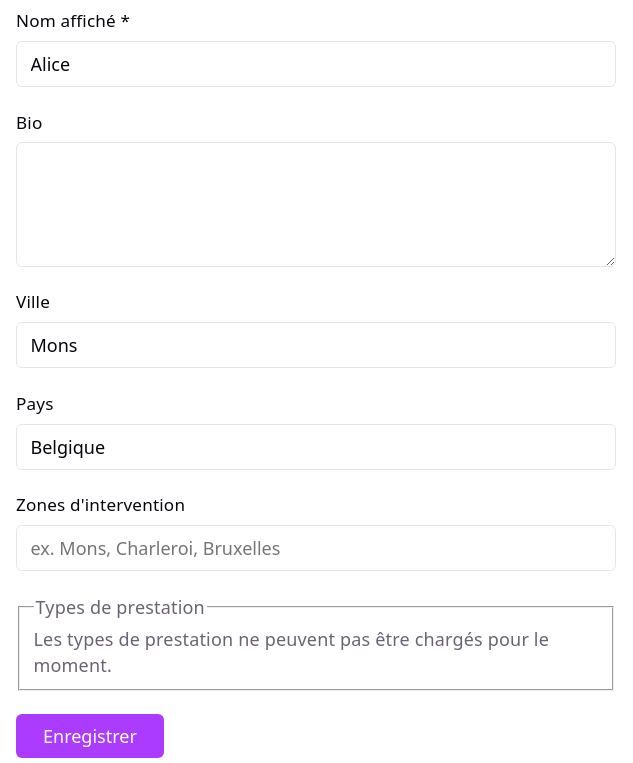
Test: MonProfilCreateur : types de prestation (#87) › garde le formulaire utilisable si les types ne peuvent pas être chargés
The width and height of the screenshot is (633, 763).
(page scrolled)
Expected: the text "Les types de prestation ne peuvent pas être chargés pour le moment." is shown, [34, 626, 598, 678]
Click the button "Enregistrer": click(90, 736) [16, 714, 164, 758]
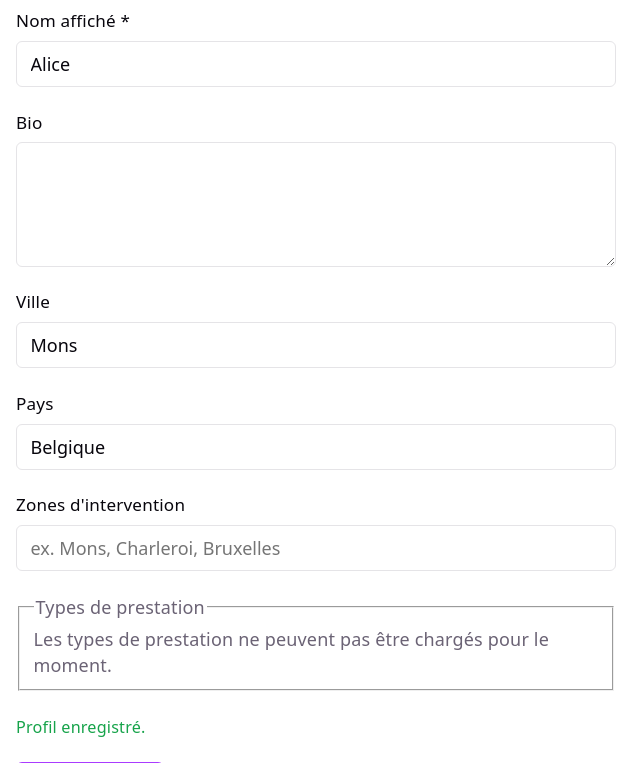
Expected: the text "Profil enregistré." is shown, [16, 716, 146, 738]
